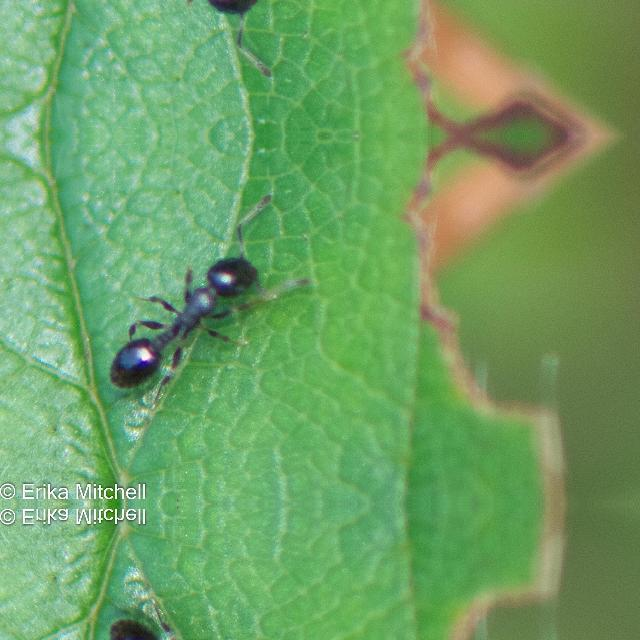Temnothorax: (64, 235, 294, 403), (64, 602, 292, 640), (63, 0, 292, 34)
